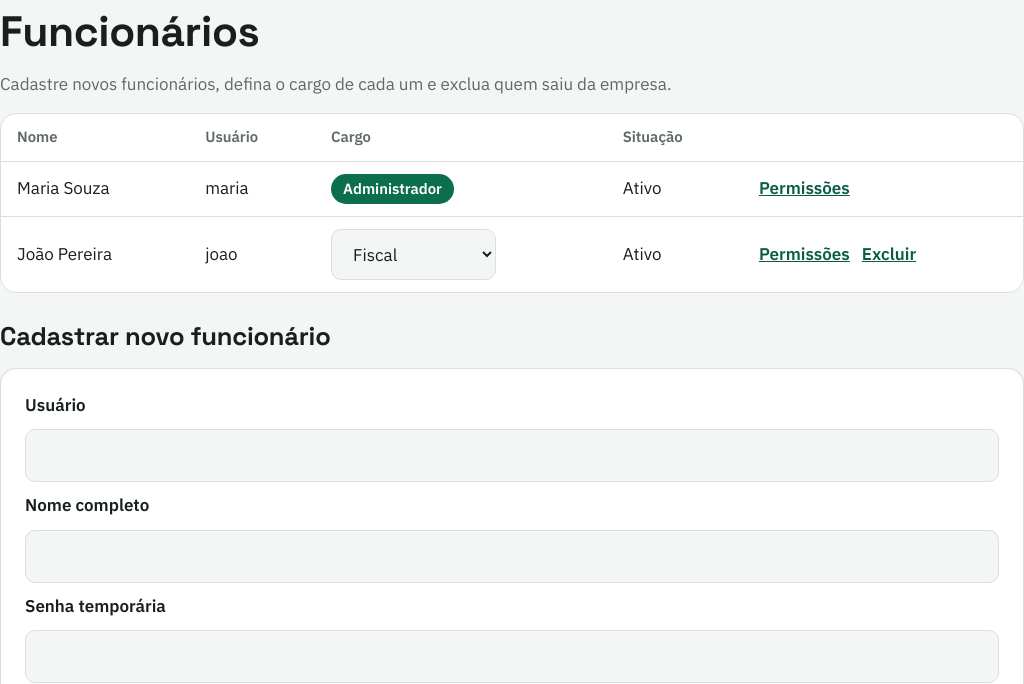
Test: CreateEmployeePage - ações na tabela › mostra o erro ao trocar o cargo com uma Error
The image size is (1024, 684).
Check: the text "João Pereira" is shown, box top-left (1, 216), bottom-right (189, 292)
Select "Administrador" in the dropdown named "Cargo de João Pereira": (414, 255) top-left (331, 229), bottom-right (496, 280)
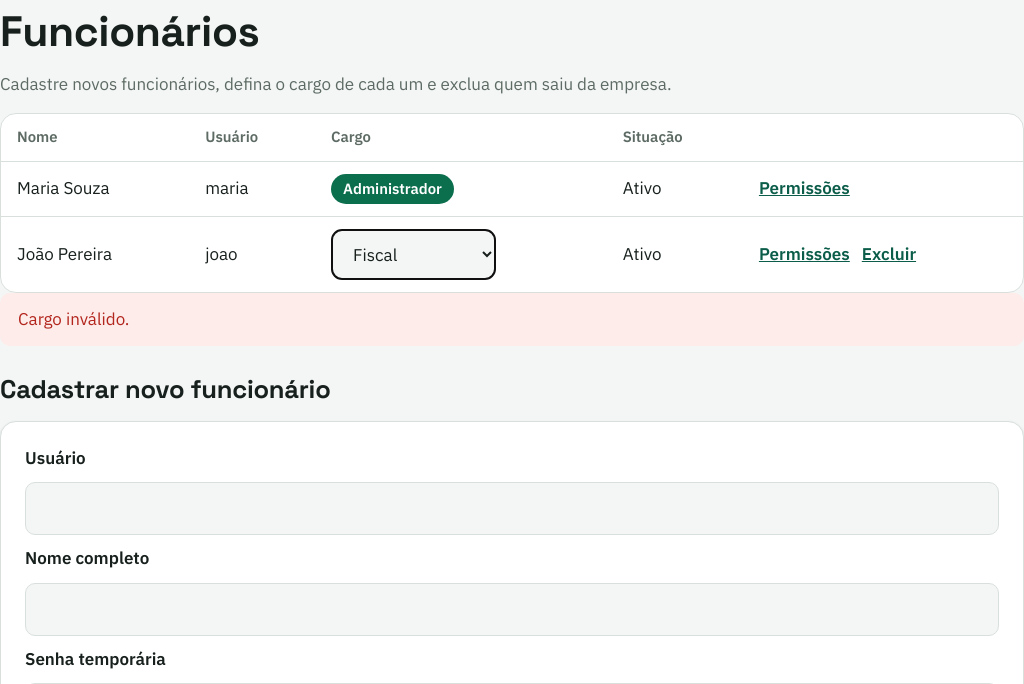
Check: the text "Cargo inválido." is shown, box top-left (0, 293), bottom-right (1023, 346)
